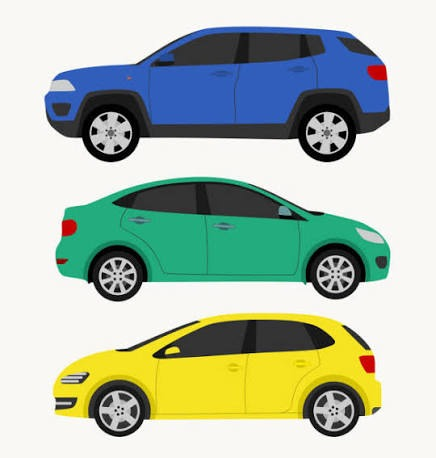car: (47, 63, 407, 230), (45, 227, 403, 389), (56, 20, 389, 171), (64, 291, 393, 437), (63, 178, 400, 289)
